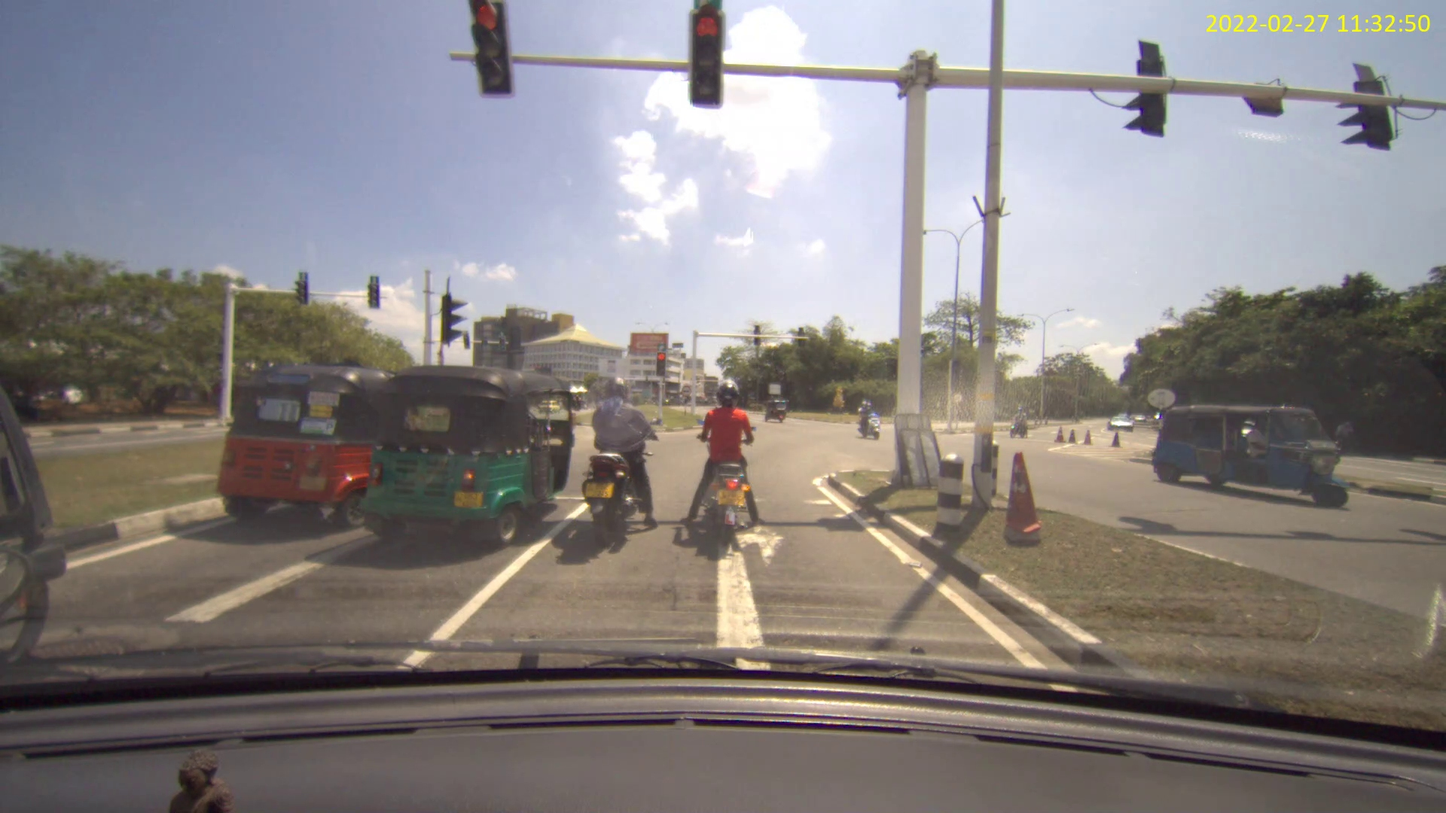Red: (468, 0, 515, 99), (688, 8, 725, 109), (655, 352, 666, 377)
